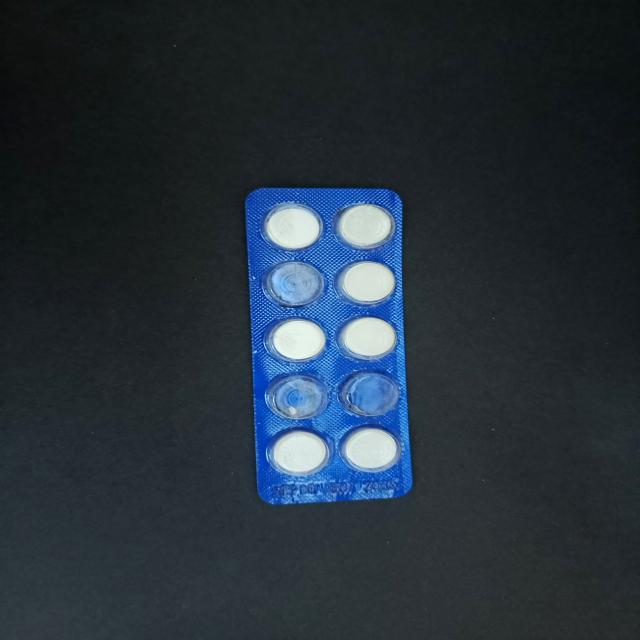defect: (260, 258, 329, 310), (263, 372, 330, 422), (337, 368, 401, 419)
